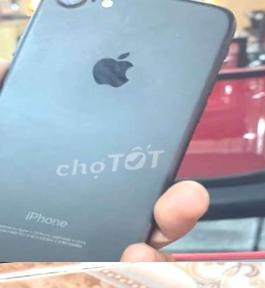scratch: (47, 0, 94, 12)
